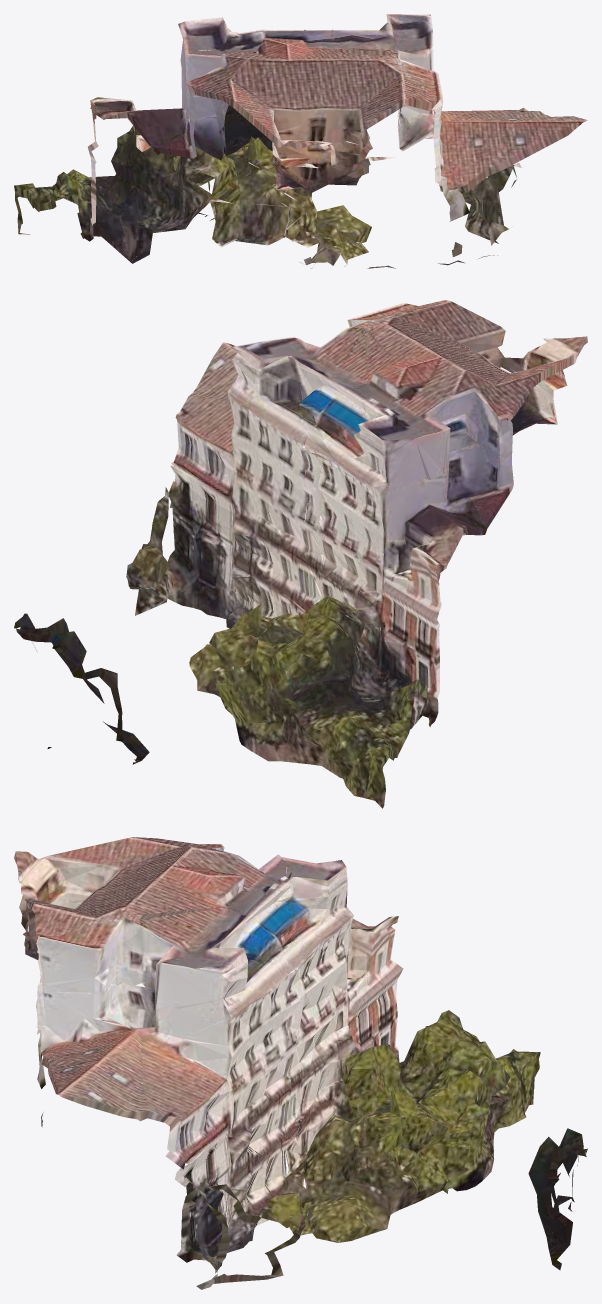
3 renders of one model, top to bottom at view 1: azimuth 30°, elevation 25°; view 2: azimuth 150°, elevation 25°; view 3: azimuth 270°, elevation 25°, orthographic. The views are drawn at different scales.
Parts seen in each view (by area): view 1: Mesh_0; view 2: Mesh_0; view 3: Mesh_0.
Boxes of the visible parts, x1,y1,x2,y2 form: Mesh_0: (14,14,587,268); Mesh_0: (14,300,587,808); Mesh_0: (14,837,587,1289).
Size of the model in its own units: 33.37 by 23.91 by 41.44.
Materials: 2 (2 with a texture image).
